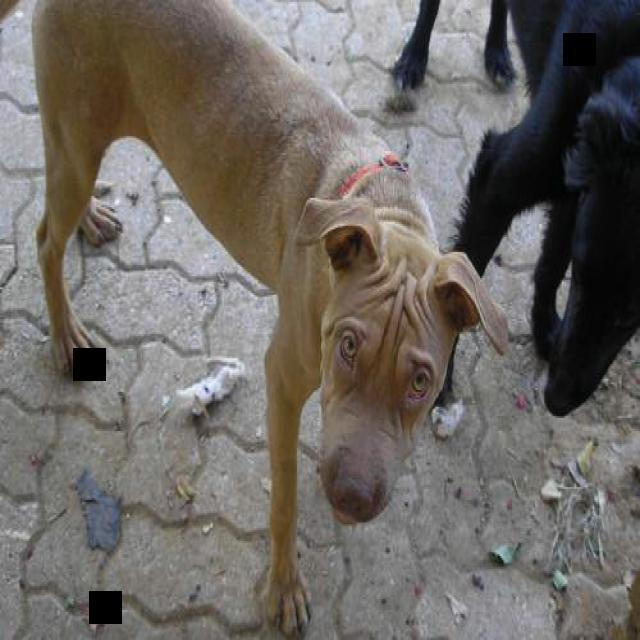adult_dog: (29, 0, 510, 640), (389, 0, 640, 418)
